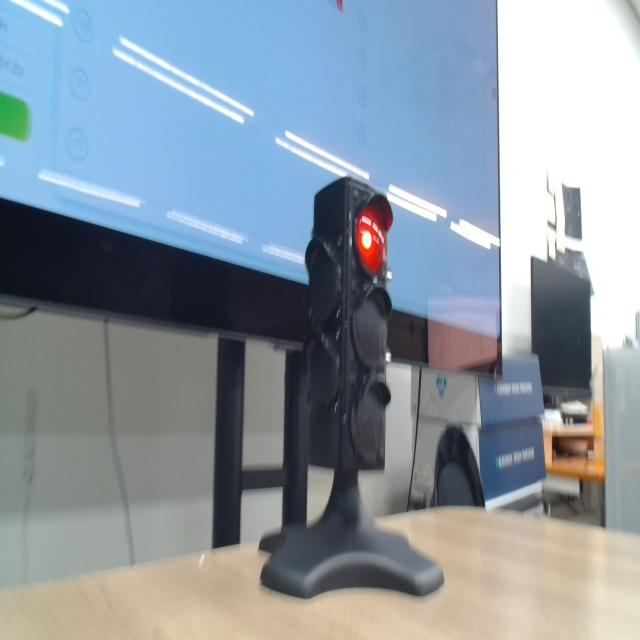red_light: (356, 204, 386, 275)
